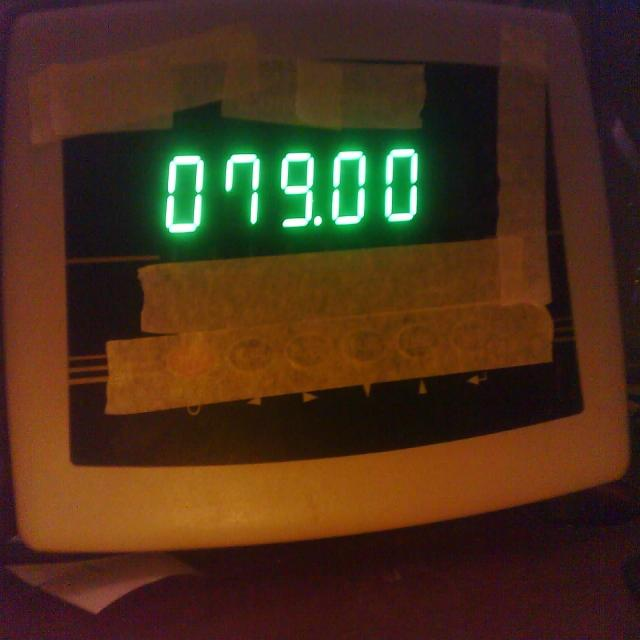.: (312, 214, 324, 228)
0: (163, 103, 206, 285), (330, 133, 368, 245), (384, 148, 420, 224)
7: (224, 118, 261, 262)
9: (278, 134, 316, 246)
